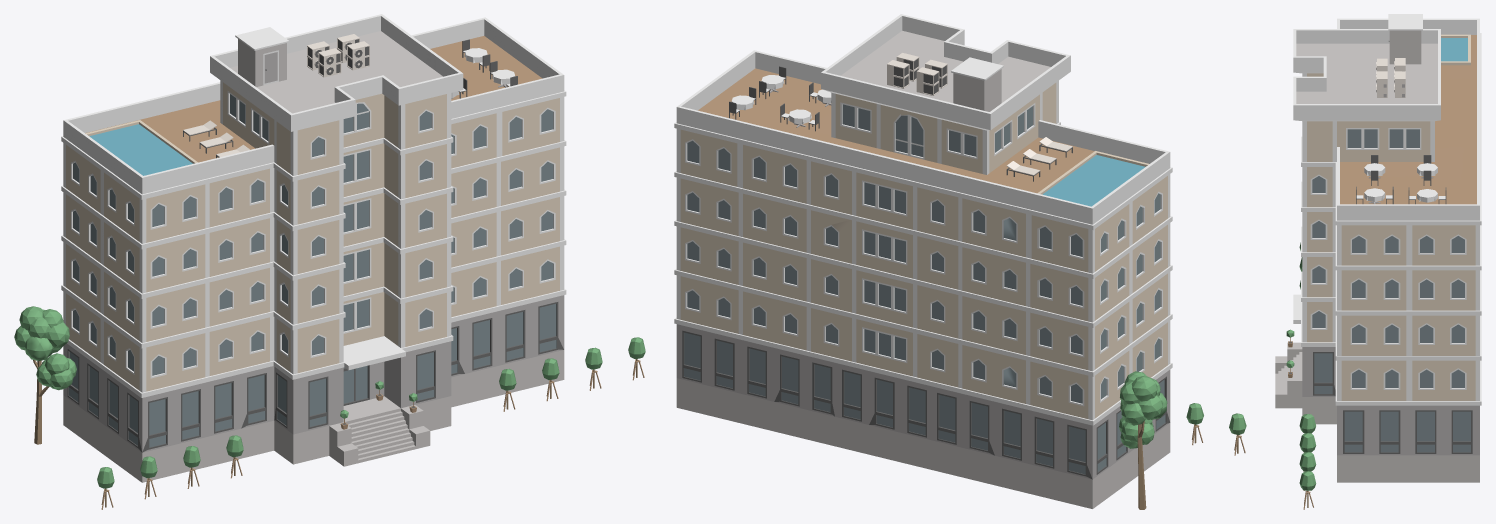
Rendered from Hotel.fbx.
3 views of the same model, side by side, from view 1: azimuth 30°, elevation 25°; view 2: azimuth 150°, elevation 25°; view 3: azimuth 270°, elevation 25° (orthographic). The views are drawn at different scales.
Parts seen in each view (by area): view 1: building-hotel (1), tree; view 2: building-hotel (1), tree; view 3: building-hotel (1), tree-little (5), tree-little (4), tree-little (3), tree-little (2).
Boxes of the visible parts, box(x1,y1,x2,y2) form: building-hotel (1): box(61, 14, 566, 482); tree: box(14, 306, 76, 444); building-hotel (1): box(674, 14, 1172, 508); tree: box(1119, 371, 1167, 509); building-hotel (1): box(1275, 14, 1481, 482); tree-little (5): box(1299, 471, 1316, 509); tree-little (4): box(1299, 452, 1316, 490); tree-little (3): box(1299, 433, 1316, 471); tree-little (2): box(1299, 414, 1315, 433).
Size of the model in its own units: 3811 by 2520 by 1370.
